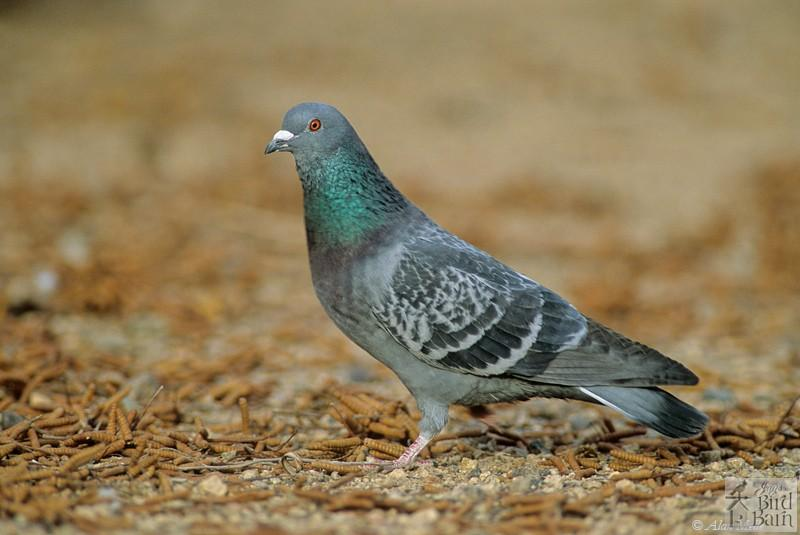Flying Rat: (261, 99, 703, 463)
